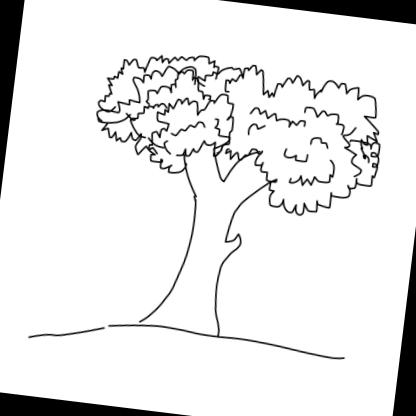branch_cut: (170, 128, 276, 207)
crown_dizzy: (81, 35, 393, 225)
root_none: (130, 302, 241, 367)
trunk_reflex: (158, 195, 253, 316)
